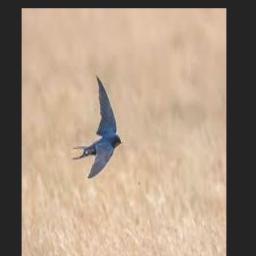Swallow: (73, 75, 122, 177)
